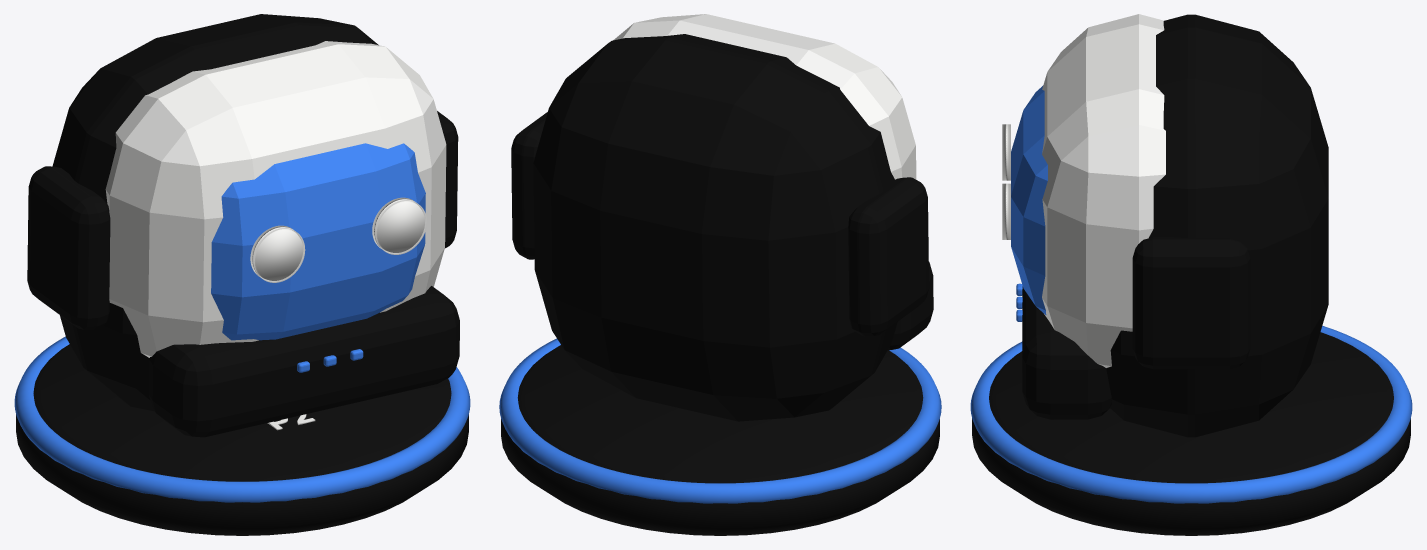
The model's file is player_blue.glb.
The picture shows the model from 3 angles, left to right: view 1: azimuth 30°, elevation 25°; view 2: azimuth 150°, elevation 25°; view 3: azimuth 270°, elevation 25°; orthographic projection. The views are drawn at different scales.
Visible parts, largest first — view 1: MBR_ASSET_player_blue; view 2: MBR_ASSET_player_blue; view 3: MBR_ASSET_player_blue.
Part boxes in pixels (x1,y1,x2,y2): MBR_ASSET_player_blue: (14, 14, 470, 535); MBR_ASSET_player_blue: (499, 14, 941, 535); MBR_ASSET_player_blue: (970, 14, 1412, 535).
Size of the model in its own units: 0.564 by 0.566 by 0.564.
